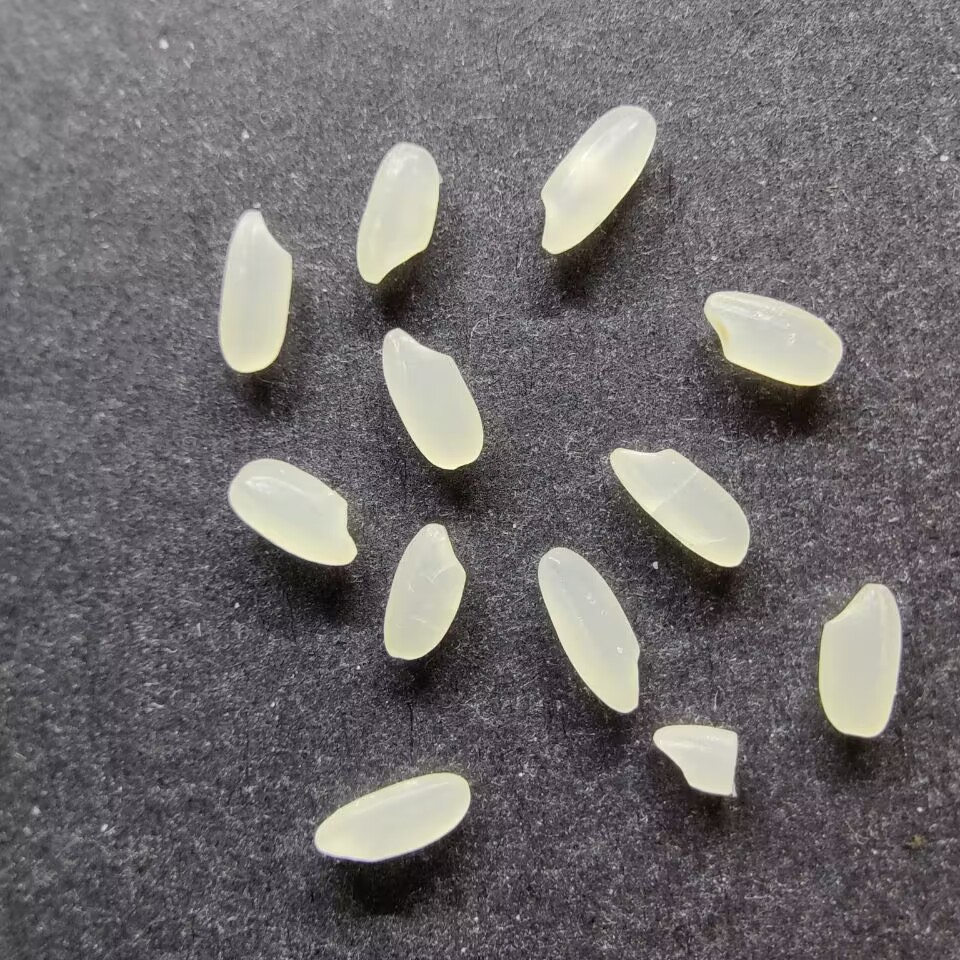broken: (652, 724, 740, 797)
rice: (538, 104, 656, 255), (536, 545, 640, 714), (607, 447, 750, 568), (380, 328, 483, 469), (227, 457, 358, 567), (313, 773, 470, 863), (702, 290, 844, 387), (816, 582, 901, 737), (217, 208, 293, 373), (355, 143, 439, 284), (381, 522, 466, 660)
